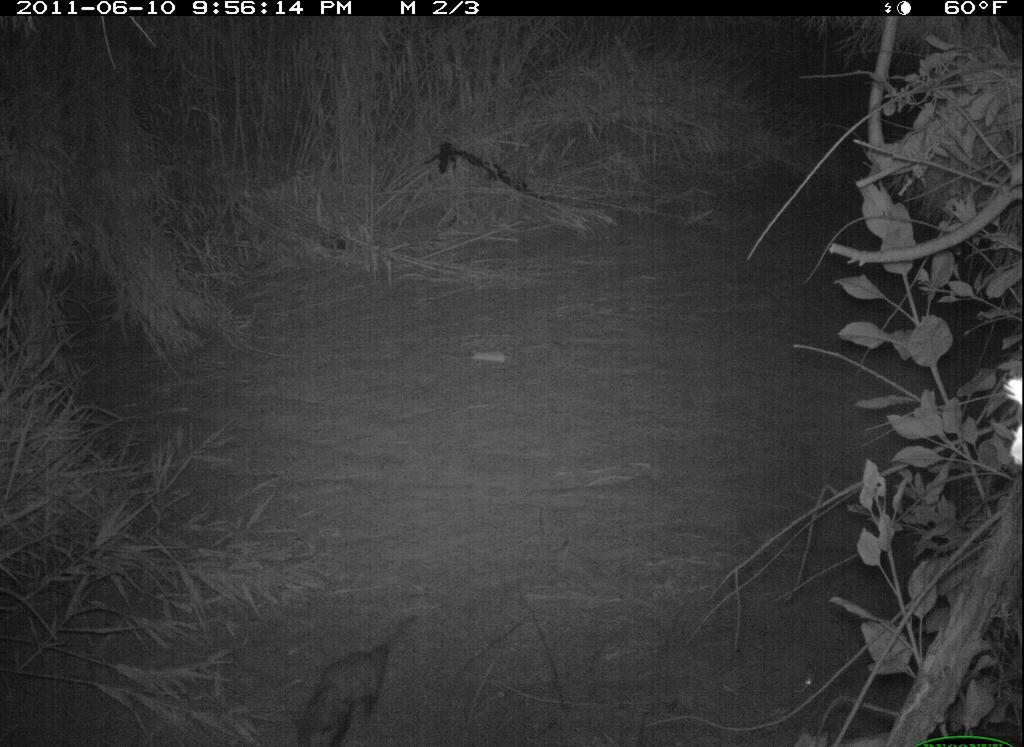opossum: (290, 609, 425, 747)
